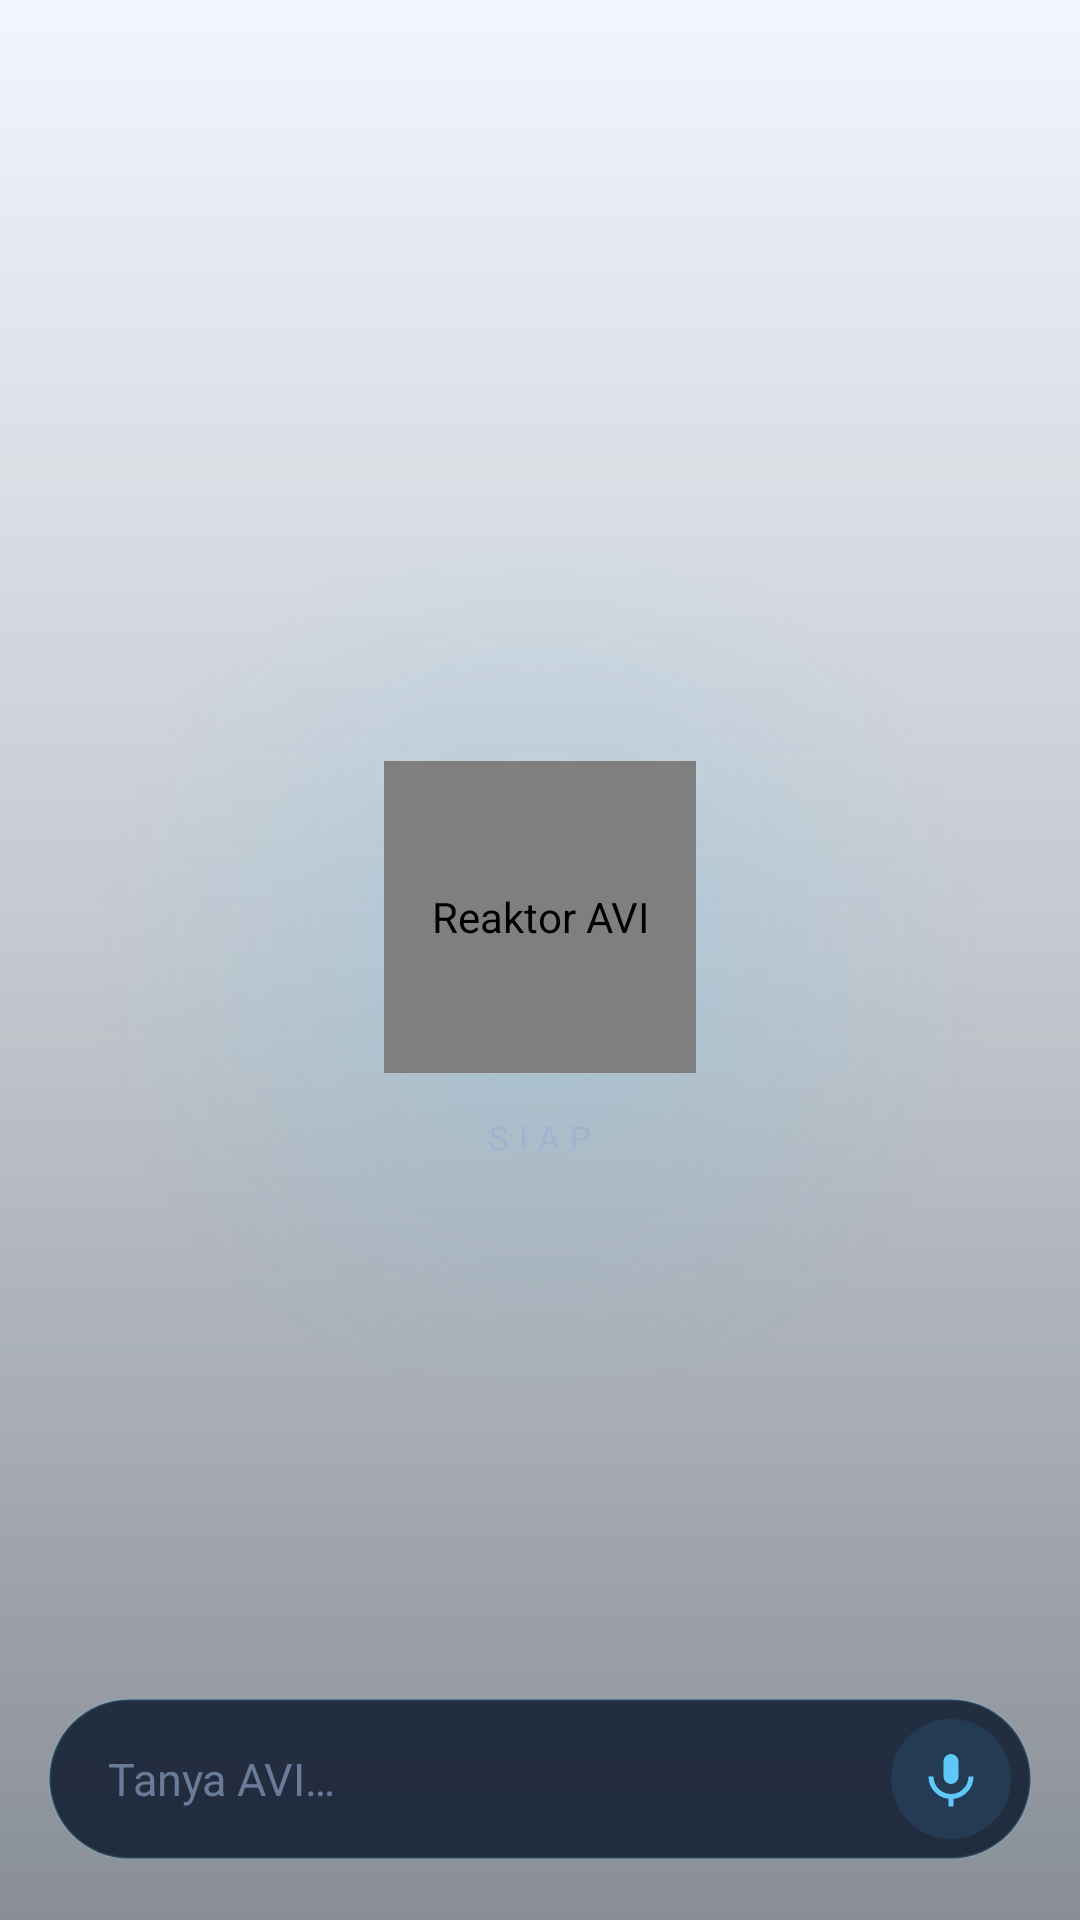

Where to tap for icons on this 1080 x 1920 app screen, as (x=x, y=y):
mic: (x=951, y=1780)
